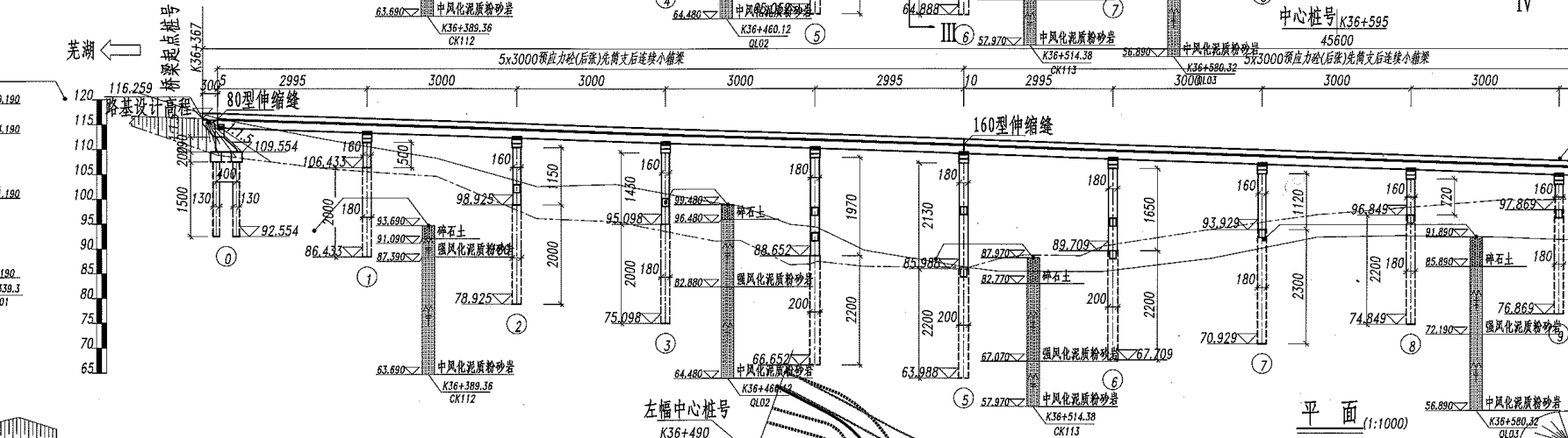C: (889, 146, 982, 413), (744, 142, 836, 386), (1043, 151, 1133, 392), (1191, 156, 1281, 378), (597, 136, 682, 357), (450, 130, 535, 339), (1340, 160, 1428, 359), (297, 125, 382, 293), (1492, 165, 1568, 349)
